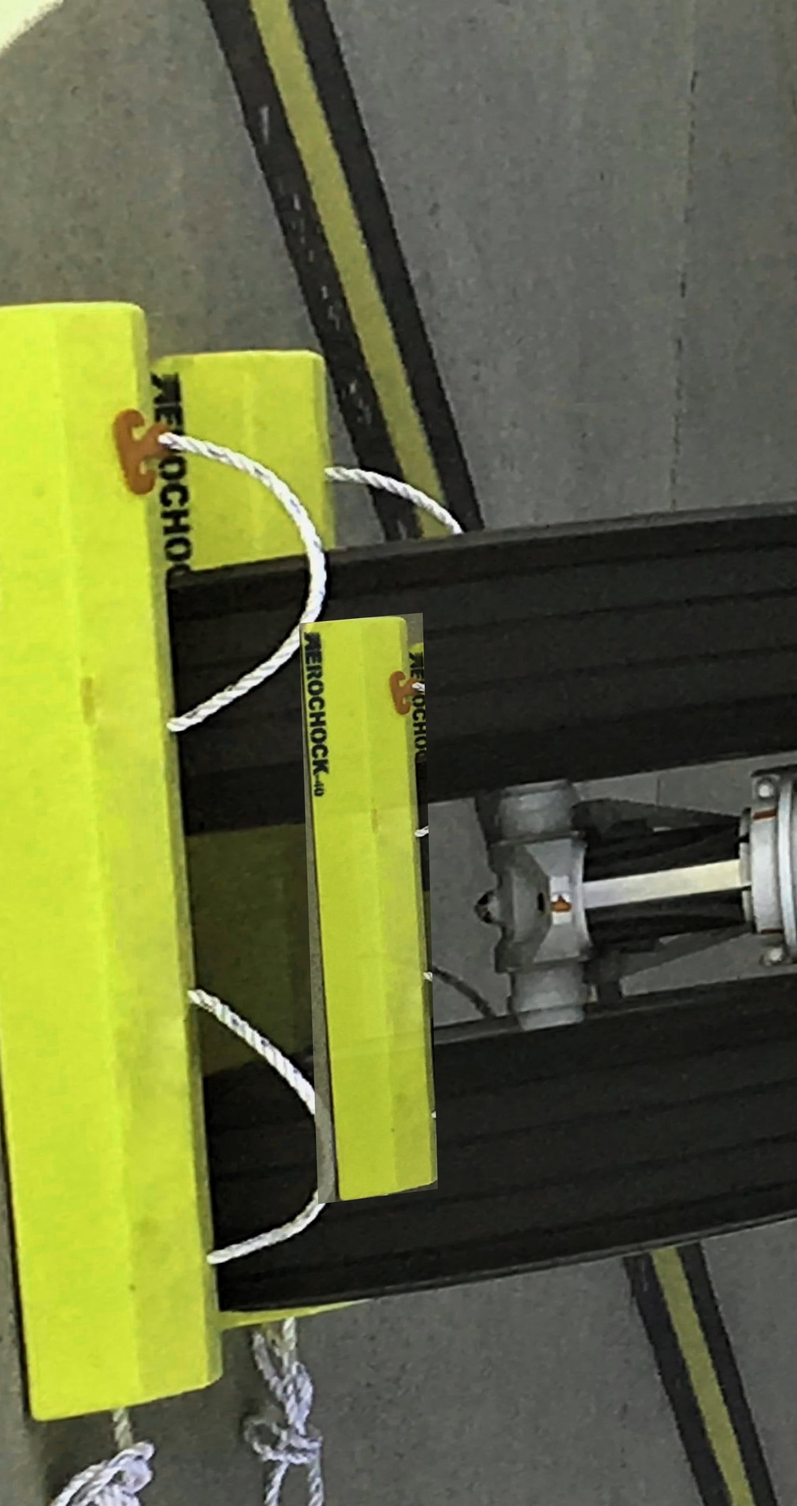chock: (0, 296, 221, 1428), (156, 341, 368, 1337), (299, 613, 438, 1204)
wheel: (201, 952, 797, 1317), (166, 490, 797, 829)
